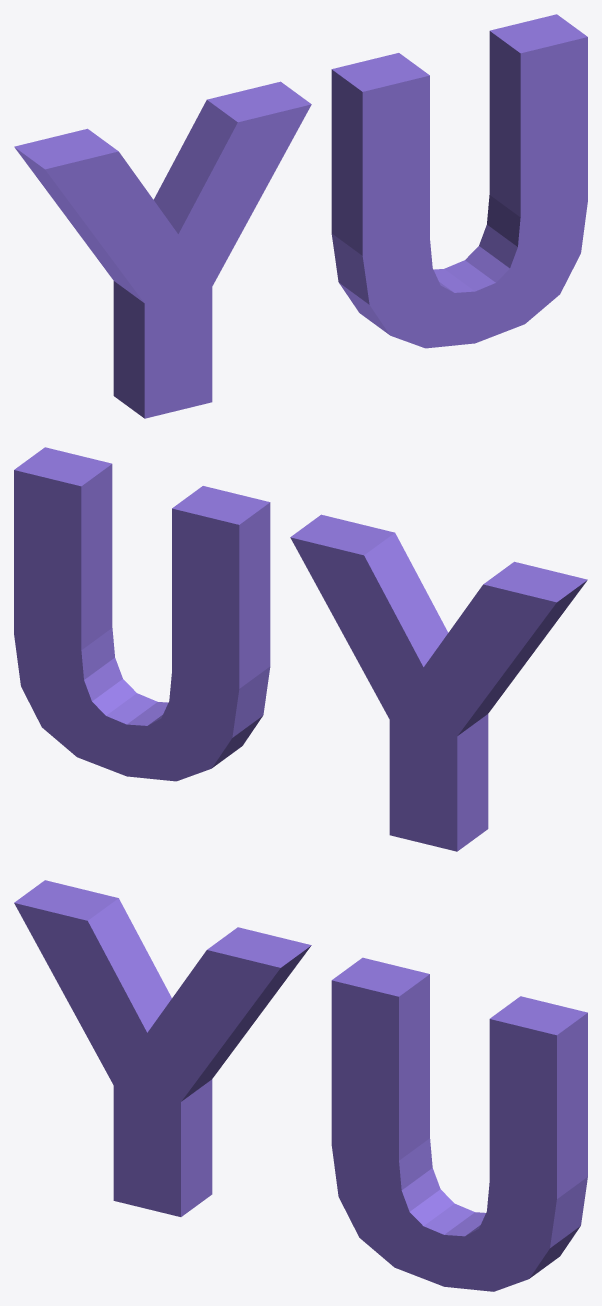
Rendered from suku_besar_yu.glb.
3 views of the same model, one above another, from view 1: azimuth 30°, elevation 25°; view 2: azimuth 150°, elevation 25°; view 3: azimuth 330°, elevation 25° (orthographic).
Visible parts, largest first — view 1: geometry_0; view 2: geometry_0; view 3: geometry_0.
Boxes of the visible parts, x1,y1,x2,y2 form: geometry_0: (14,14,587,418); geometry_0: (14,447,587,851); geometry_0: (14,880,587,1291).
Size of the model in its own units: 15.14 by 7.43 by 1.5.
